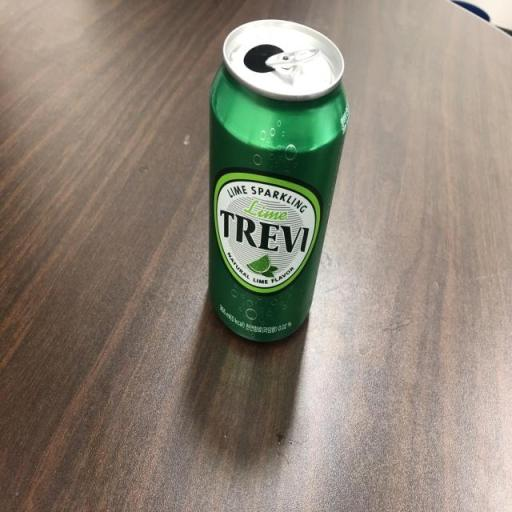metal: (197, 9, 355, 367)
